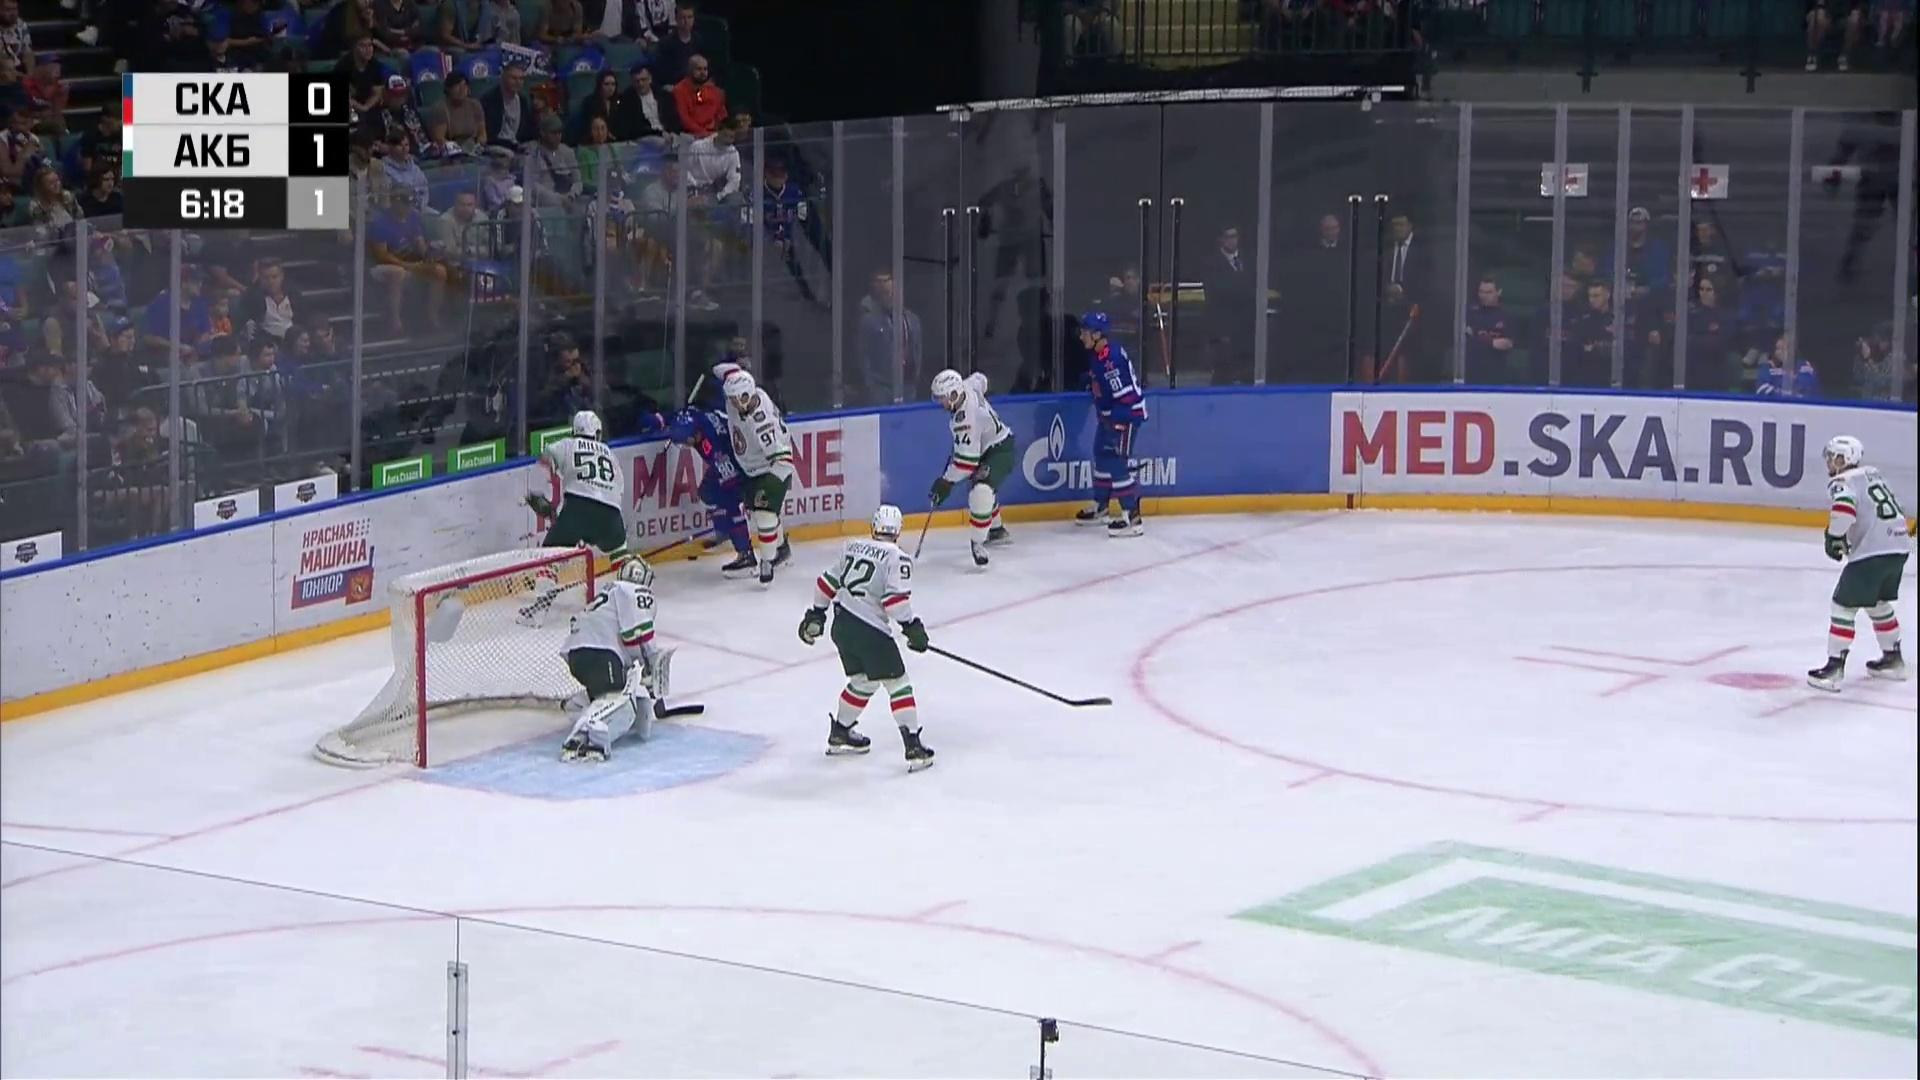ball: (687, 555, 698, 560)
